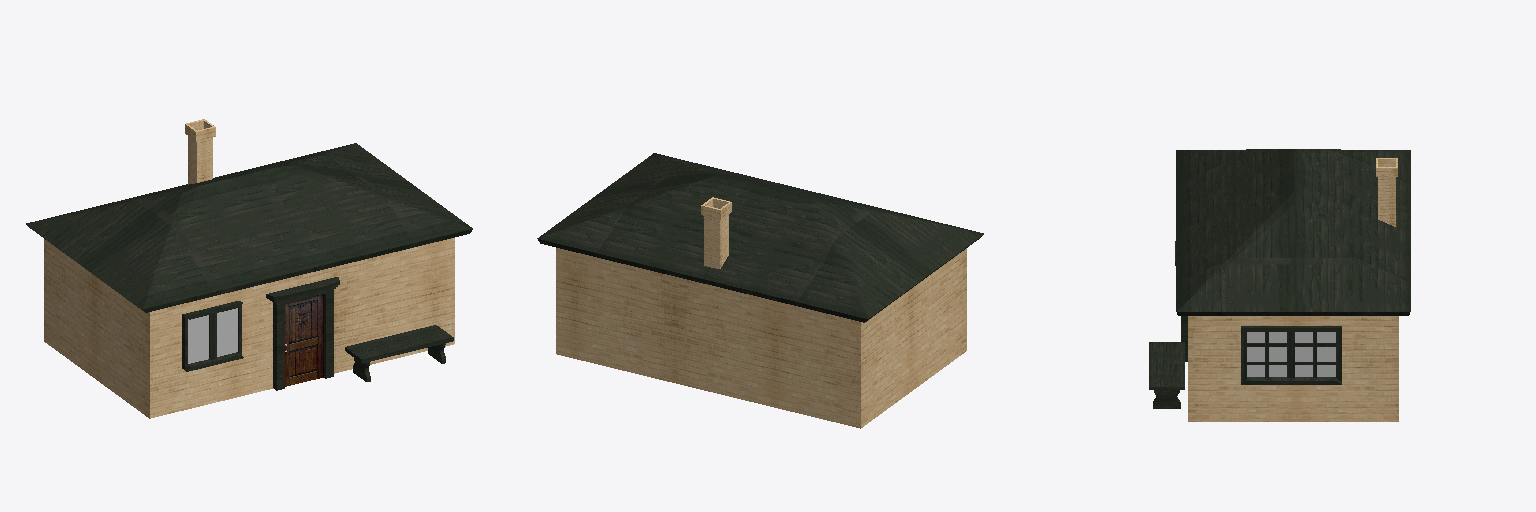
The picture shows the model from 3 angles: view 1: azimuth 30°, elevation 25°; view 2: azimuth 150°, elevation 25°; view 3: azimuth 270°, elevation 25°; orthographic projection.
Visible parts, largest first — view 1: house_body roof1, house_body, house_body door full_door, house_body full_door door_frame, bench, house_body front_window windows front_window_glass, house_body chimney, house_body front_window windows; view 2: house_body, house_body roof1, house_body chimney; view 3: house_body roof1, house_body, house_body windows side_window side_window_glass, bench, house_body windows side_window, house_body chimney.
Part boxes in pixels (x1,y1,x2,y2): house_body roof1: (26, 143, 472, 312); house_body: (44, 238, 454, 418); house_body door full_door: (285, 294, 323, 386); house_body full_door door_frame: (266, 277, 339, 390); bench: (345, 325, 453, 381); house_body front_window windows front_window_glass: (188, 308, 237, 363); house_body chimney: (185, 119, 215, 184); house_body front_window windows: (182, 301, 243, 371); house_body: (556, 248, 966, 428); house_body roof1: (537, 153, 983, 322); house_body chimney: (701, 197, 731, 268); house_body roof1: (1176, 149, 1410, 315); house_body: (1188, 316, 1398, 421); house_body windows side_window side_window_glass: (1247, 332, 1335, 376); bench: (1149, 342, 1184, 408); house_body windows side_window: (1241, 326, 1341, 384); house_body chimney: (1376, 158, 1397, 226).
Bounding box in the file's own units: 10.86 × 5.76 × 7.42.
6 materials, 3 textured.